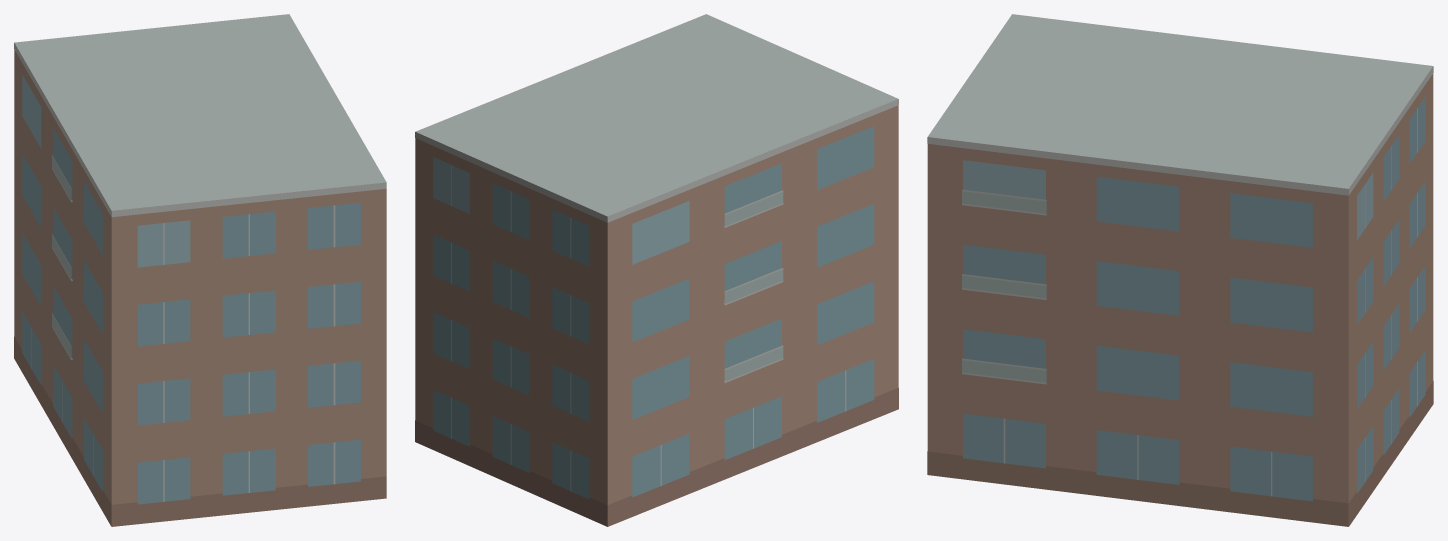
File: residential-2f4dac2a-b29f-4209-8fbe-9ce69022f5ae.glb
3 views of the same model, side by side, from view 1: azimuth 30°, elevation 25°; view 2: azimuth 150°, elevation 25°; view 3: azimuth 270°, elevation 25° (orthographic). The views are drawn at different scales.
Parts seen in each view (by area): view 1: residential-2f4dac2a-b29f-4209-8fbe-9ce69022f5ae.tmp; view 2: residential-2f4dac2a-b29f-4209-8fbe-9ce69022f5ae.tmp; view 3: residential-2f4dac2a-b29f-4209-8fbe-9ce69022f5ae.tmp.
Boxes of the visible parts, x1,y1,x2,y2 form: residential-2f4dac2a-b29f-4209-8fbe-9ce69022f5ae.tmp: (14, 14, 386, 526); residential-2f4dac2a-b29f-4209-8fbe-9ce69022f5ae.tmp: (415, 14, 898, 526); residential-2f4dac2a-b29f-4209-8fbe-9ce69022f5ae.tmp: (927, 14, 1433, 526).
Size of the model in its own units: 13.55 by 12.2 by 16.56.
